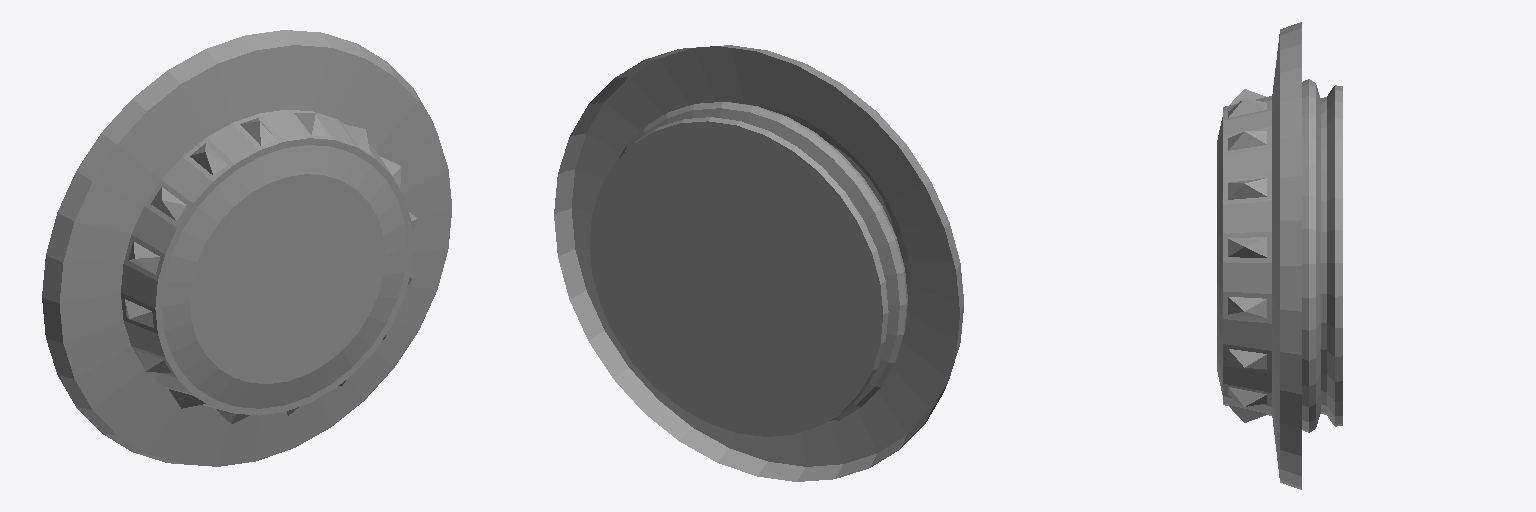
Rendered from Car2.obj.
3 views of the same model, side by side, from view 1: azimuth 30°, elevation 25°; view 2: azimuth 150°, elevation 25°; view 3: azimuth 270°, elevation 25° (orthographic).
Parts seen in each view (by area): view 1: TopCylinder001; view 2: TopCylinder001; view 3: TopCylinder001.
Part boxes in pixels (x1,y1,x2,y2): TopCylinder001: (42,30,451,466); TopCylinder001: (554,45,963,481); TopCylinder001: (1217,22,1342,489).
Size of the model in its own units: 2.72 by 2.72 by 0.7332.